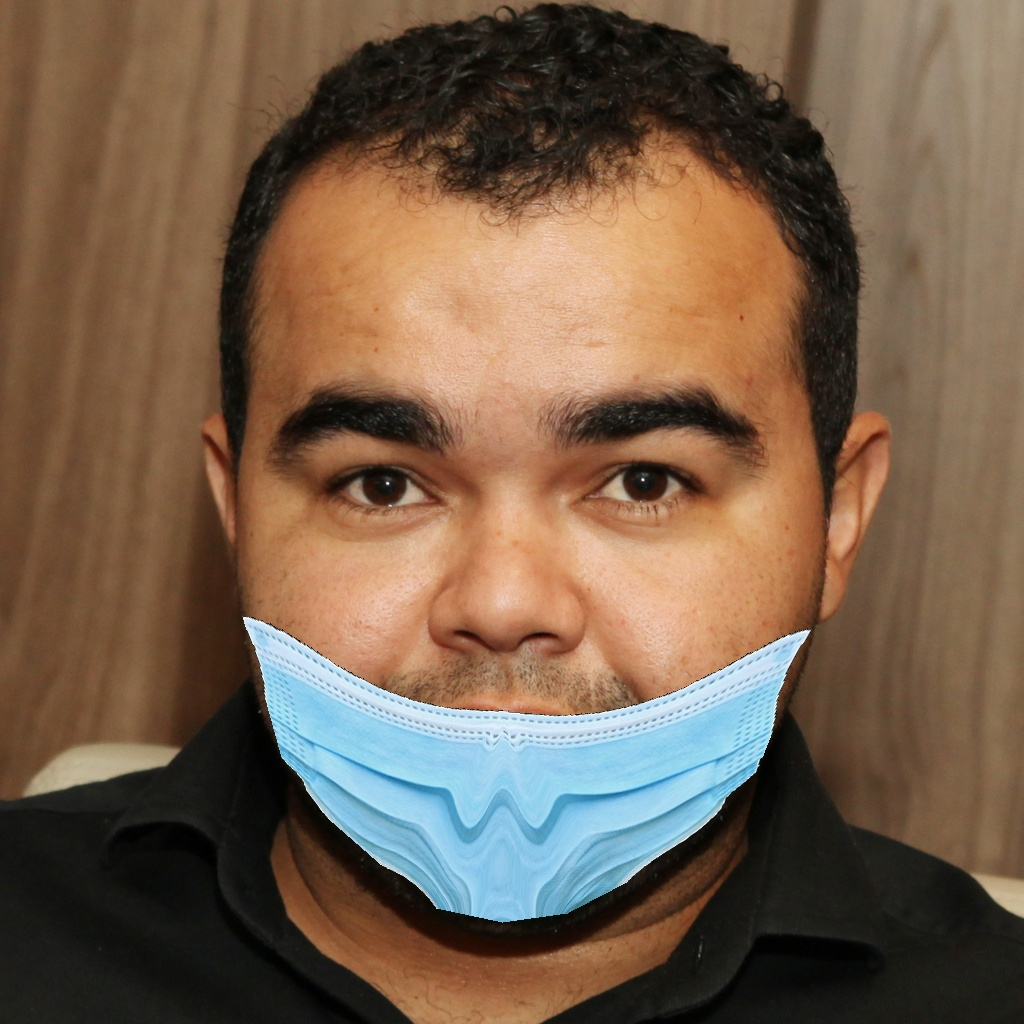mascarilla_mal_puesta: (187, 323, 839, 925)
